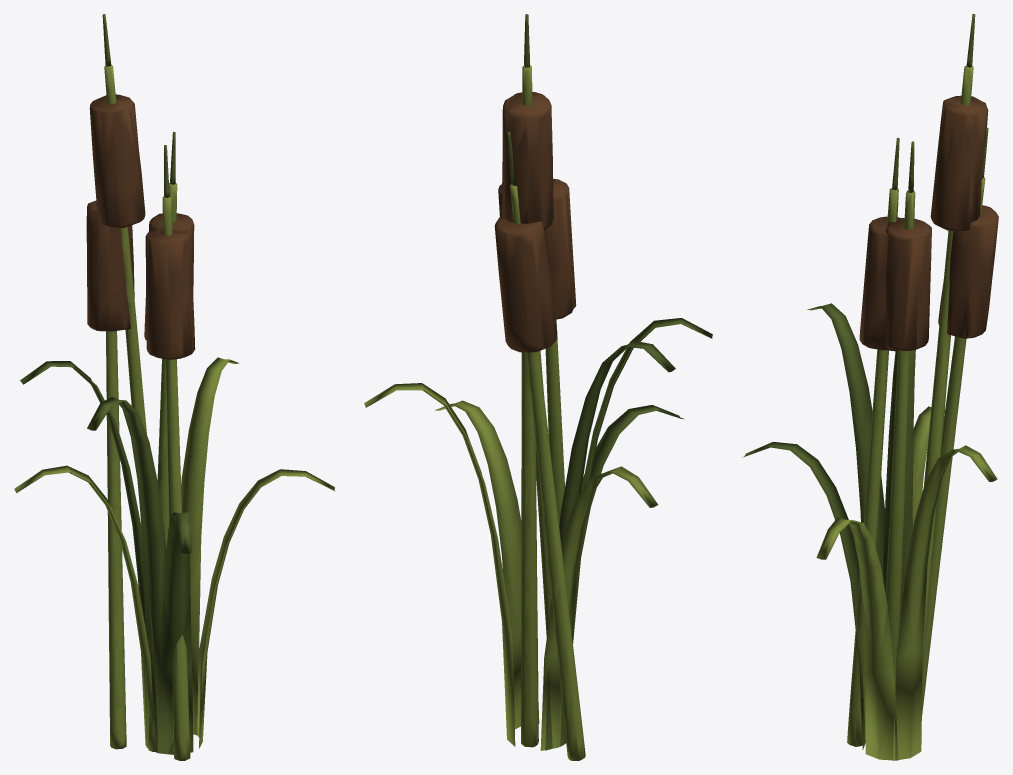
The model's file is mire_cattail.glb.
3 renders of one model, left to right at view 1: azimuth 30°, elevation 25°; view 2: azimuth 150°, elevation 25°; view 3: azimuth 270°, elevation 25°, orthographic. The views are drawn at different scales.
Parts seen in each view (by area): view 1: mire_cattail; view 2: mire_cattail; view 3: mire_cattail.
Boxes of the visible parts, <box> form: mire_cattail: <box>14,14,335,760</box>; mire_cattail: <box>364,14,712,760</box>; mire_cattail: <box>742,14,998,760</box>.
Size of the model in its own units: 7.82 by 19.74 by 6.41.
